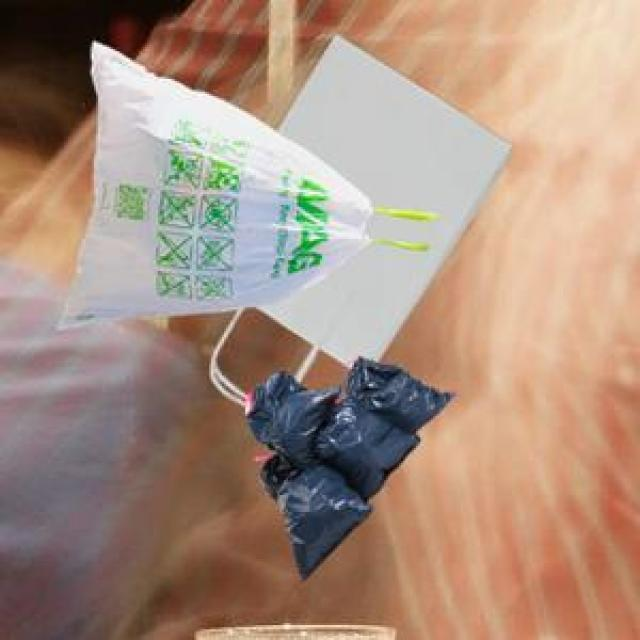miscellaneous trash: (241, 352, 449, 576)
paper: (207, 32, 508, 401)
